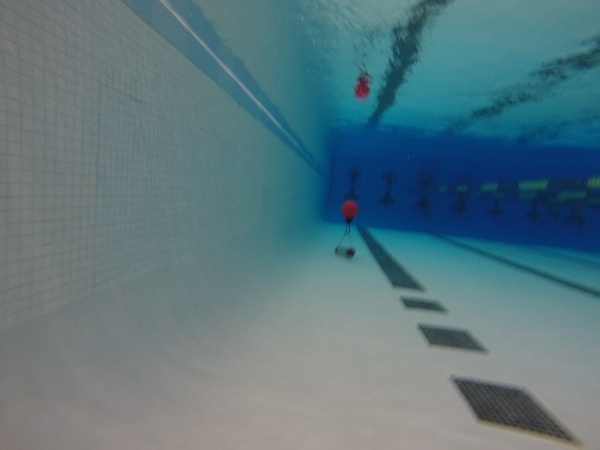buoy_red: (339, 200, 359, 222)
